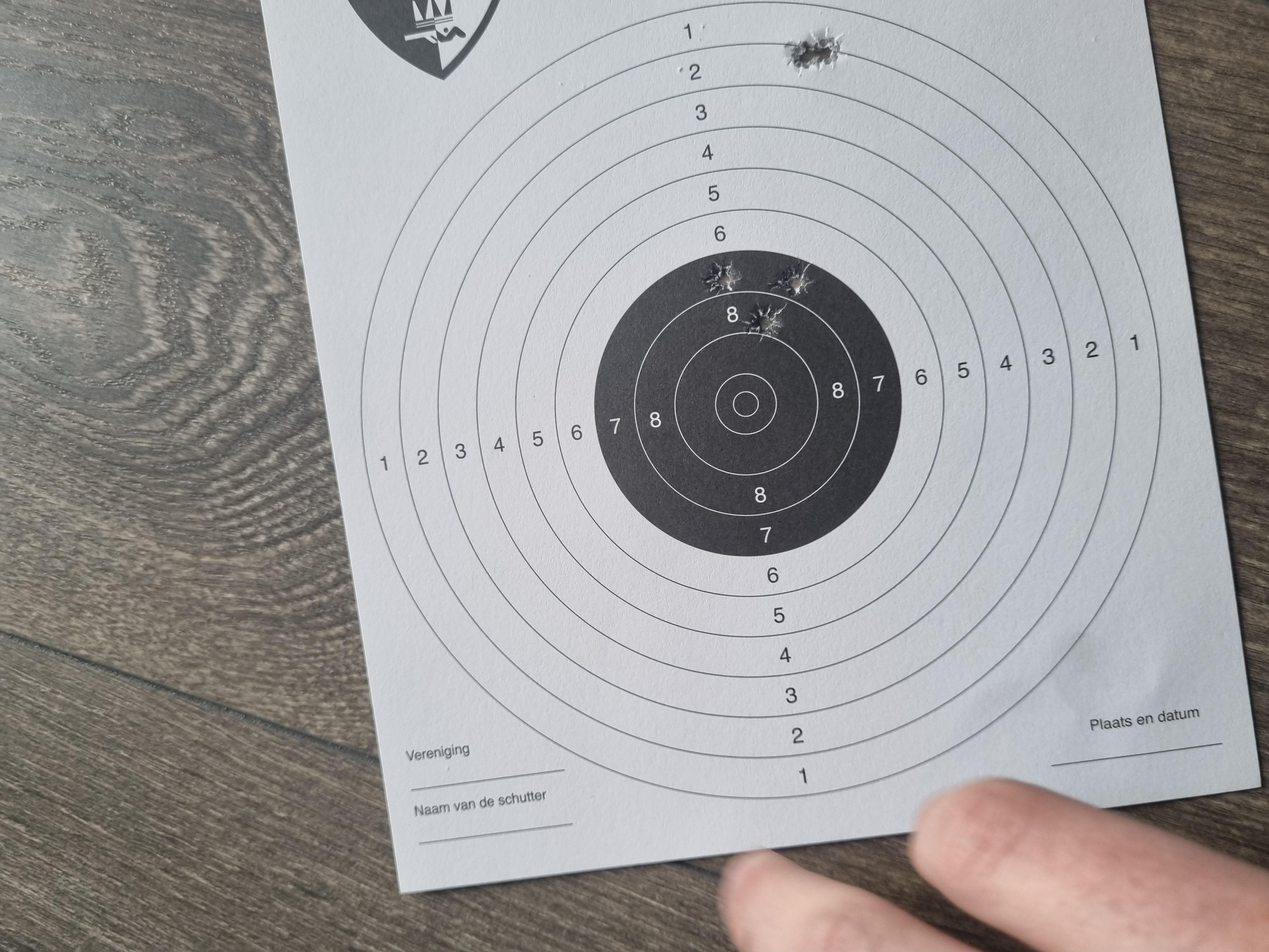hole: (873, 524, 925, 555), (874, 578, 915, 611), (814, 560, 860, 589), (1168, 588, 1217, 610), (1186, 611, 1227, 630)
